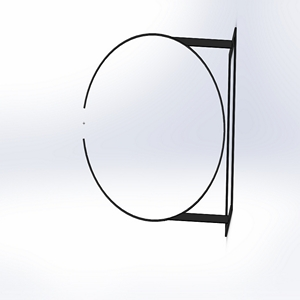circle: (78, 23, 237, 238)
